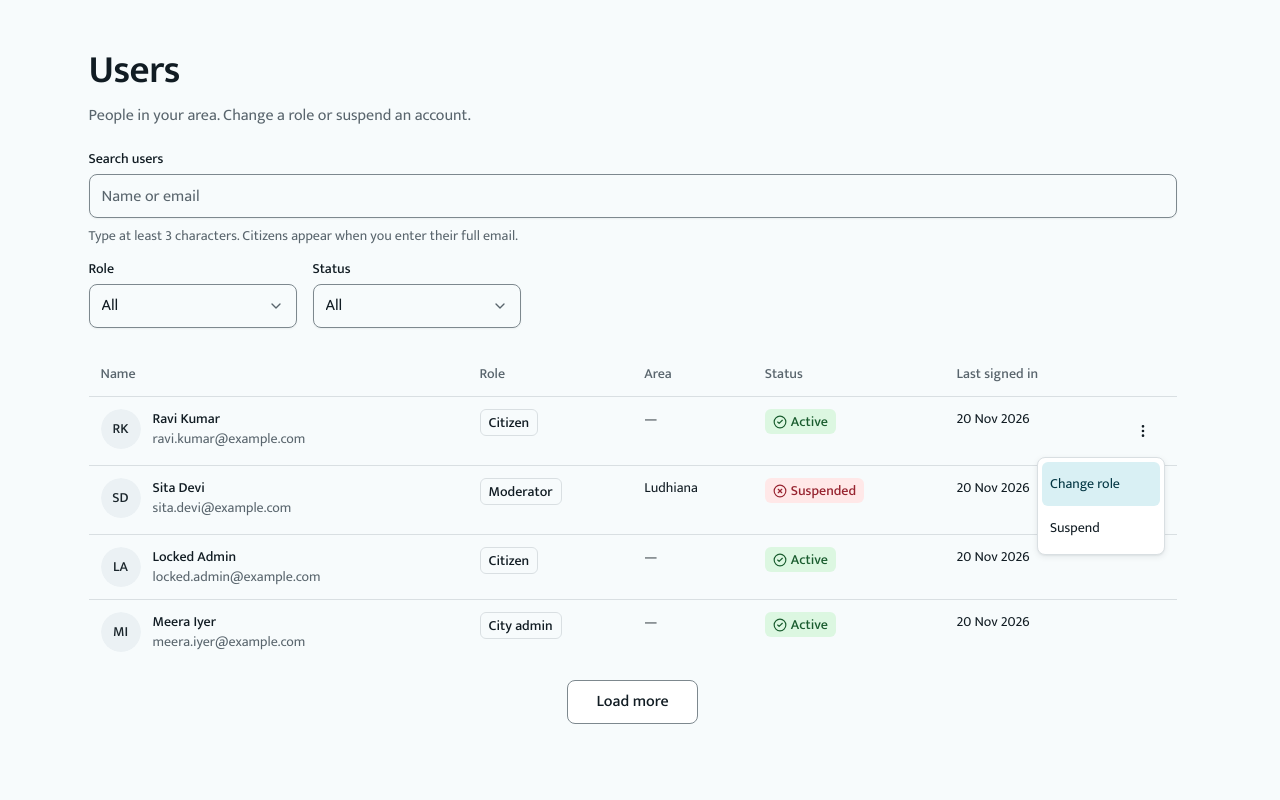
Admin Users › role dialog › offers only roles below a city admin, requires a reason, then sends the change
Earlier steps of the test are not shown.
Click the menu item "Change role" at (1101, 484), box [1042,462,1160,506]
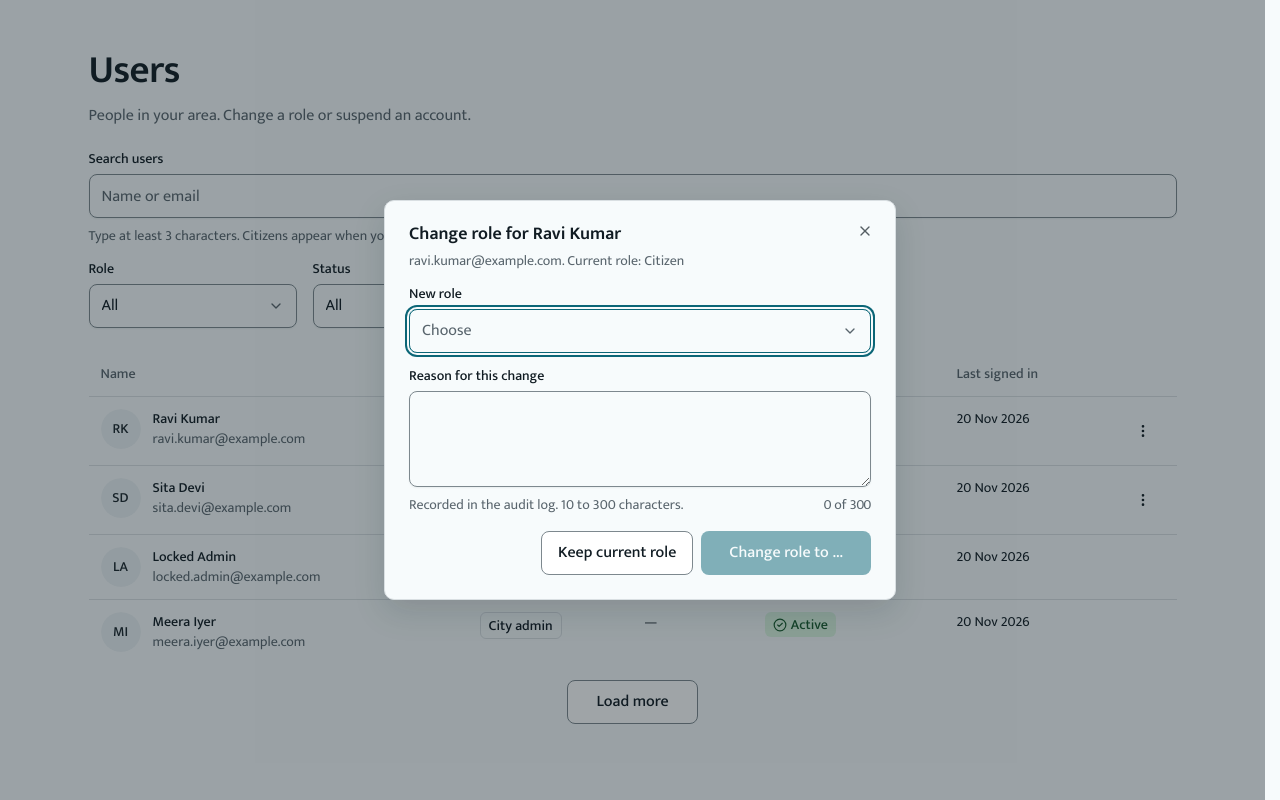
Expected: the dialog "Change role for Ravi Kumar" is shown, [384,200,896,600]
Expected: the button "Change role to …" is disabled, [701,531,871,575]
Press Enter in the dropdown named "New role", box [409,309,871,353]
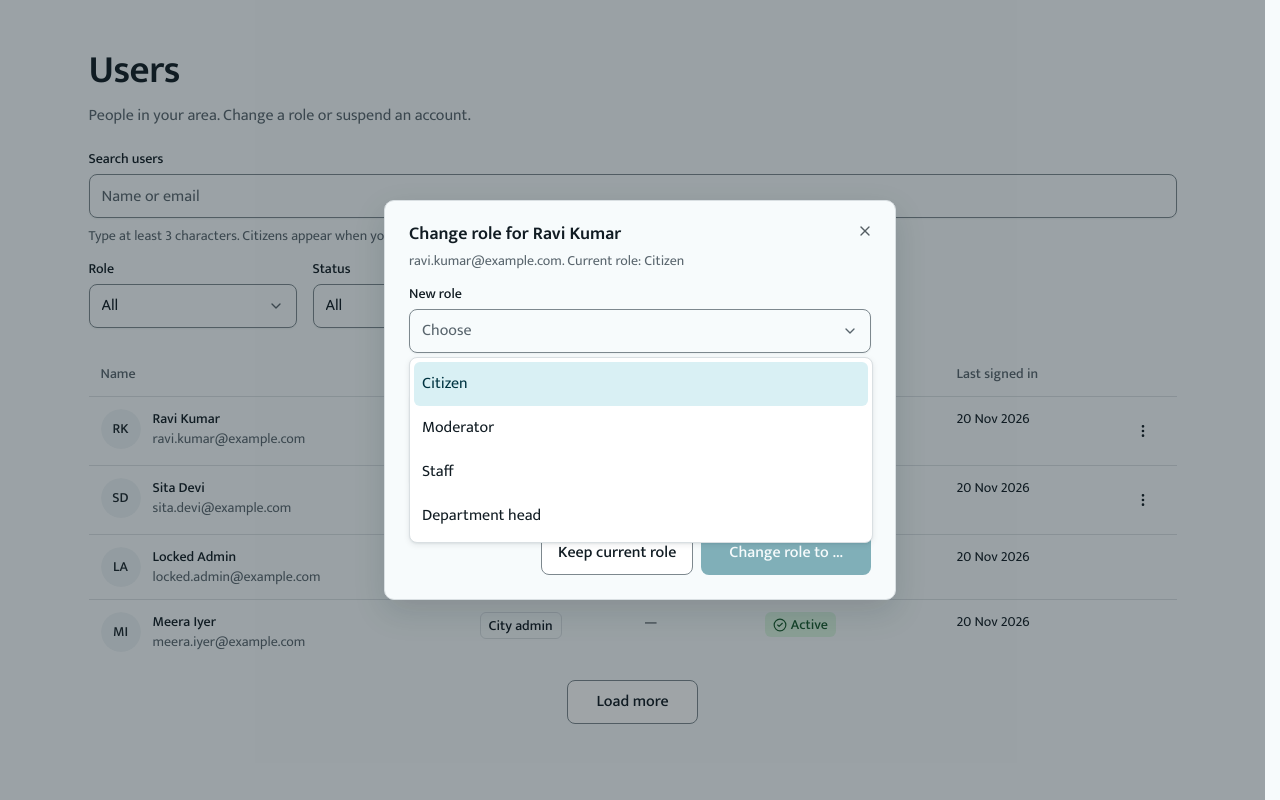
Expected: the options read "Citizen", "Moderator", "Staff", "Department head", in this order
Click the option "Moderator" at (458, 428), box [422,414,494,441]
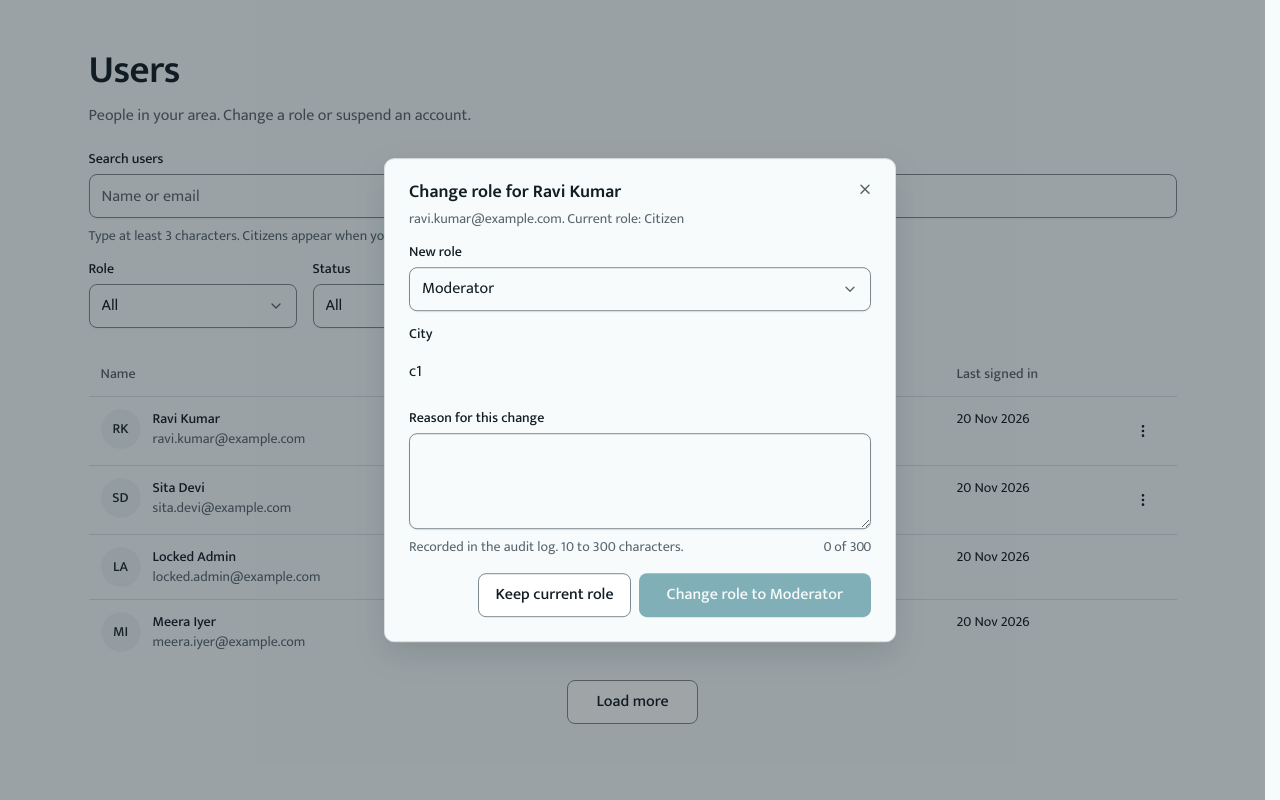
Expected: the button "Change role to Moderator" is disabled, [639,573,871,617]
Expected: the text "City" is shown, [409,322,432,345]
Expected: the option "Department" is gone
Type "Short" into the text box labelled "Reason for this change" at (640, 481), box [409,433,871,529]
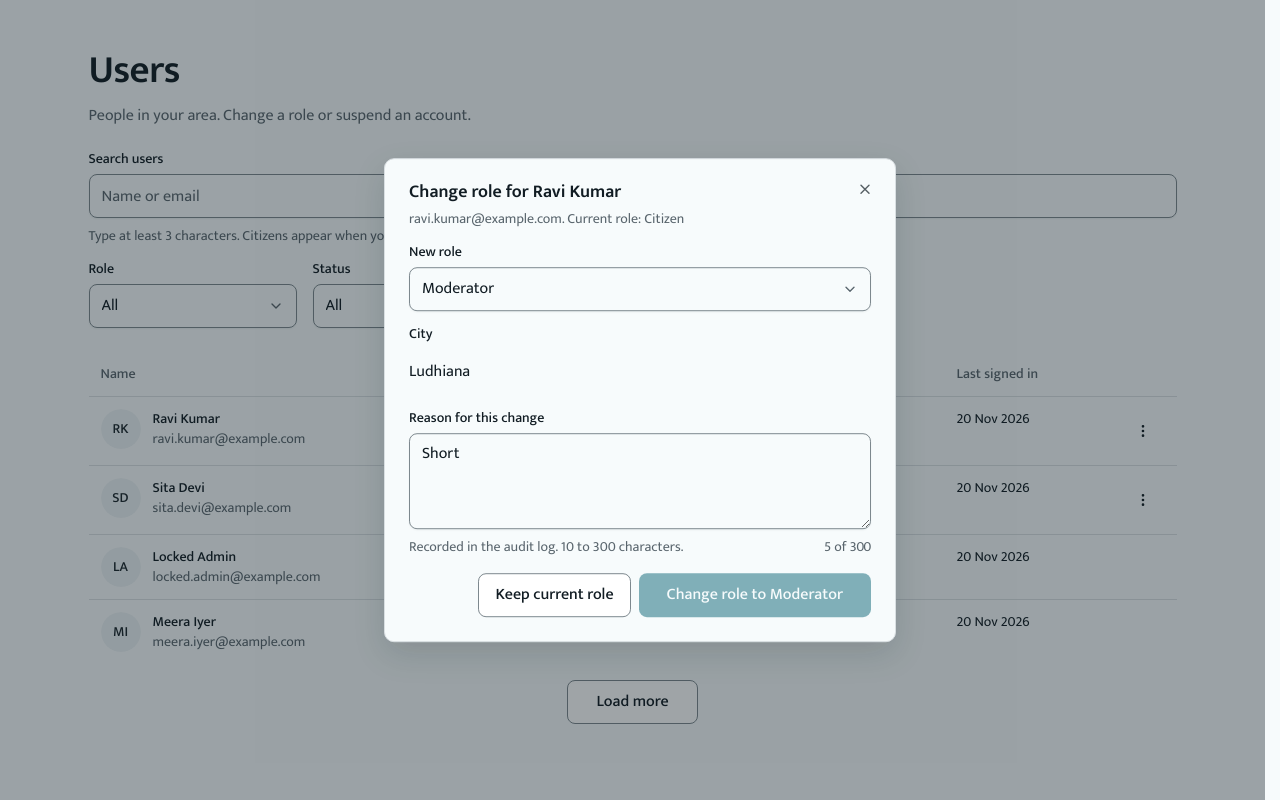
Expected: the button "Change role to Moderator" is disabled, [639,573,871,617]
Replace the text in the text box labelled "Reason for this change" with "Volunteered to moderate Ludhiana posts" at (640, 481), box [409,433,871,529]
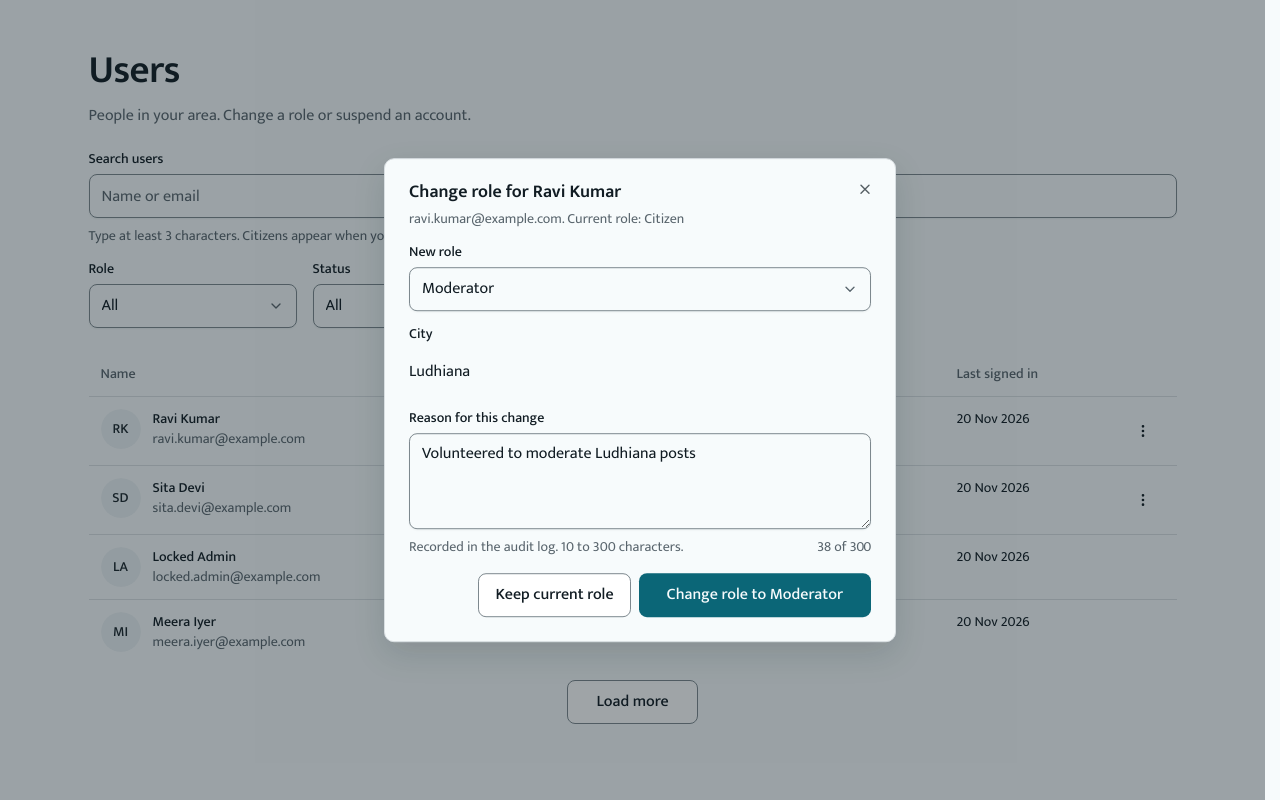
Expected: the button "Change role to Moderator" is enabled
Click the button "Change role to Moderator" at (755, 595), box [639,573,871,617]
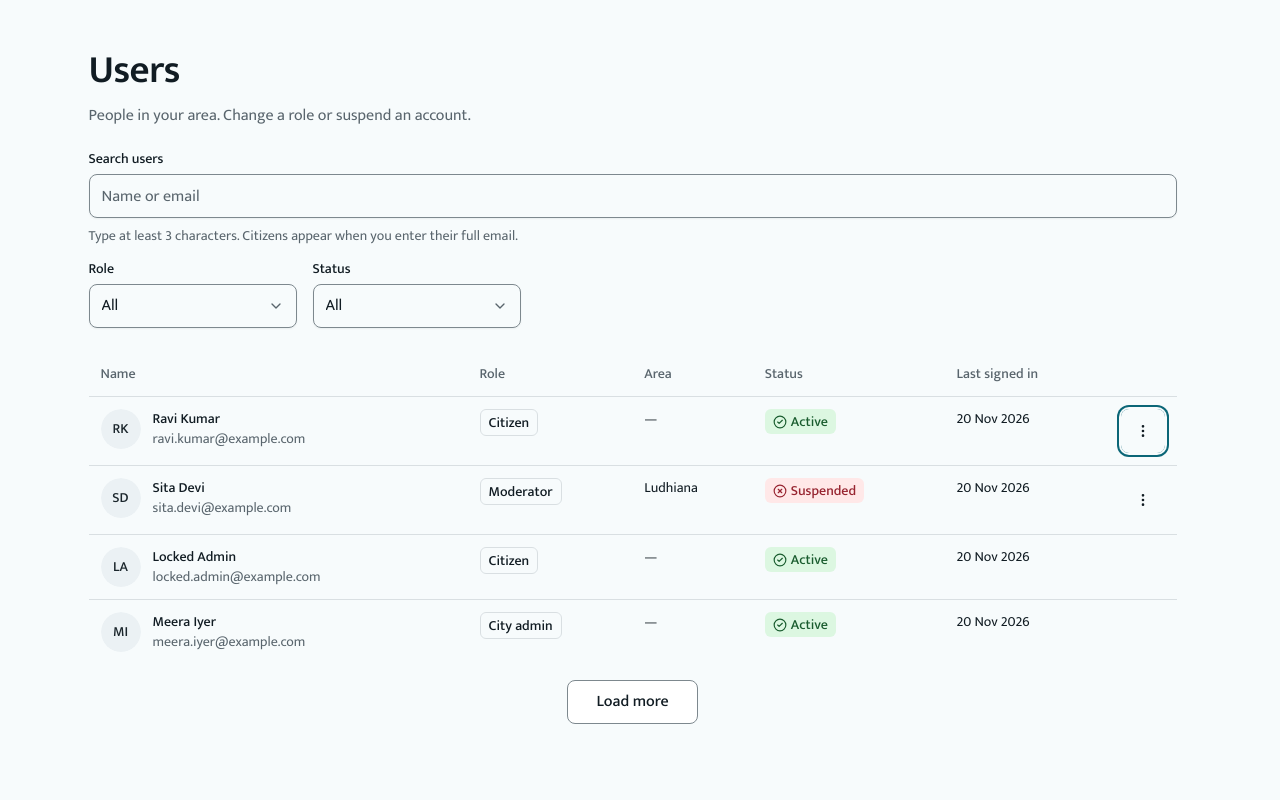
Expected: the dialog is gone
